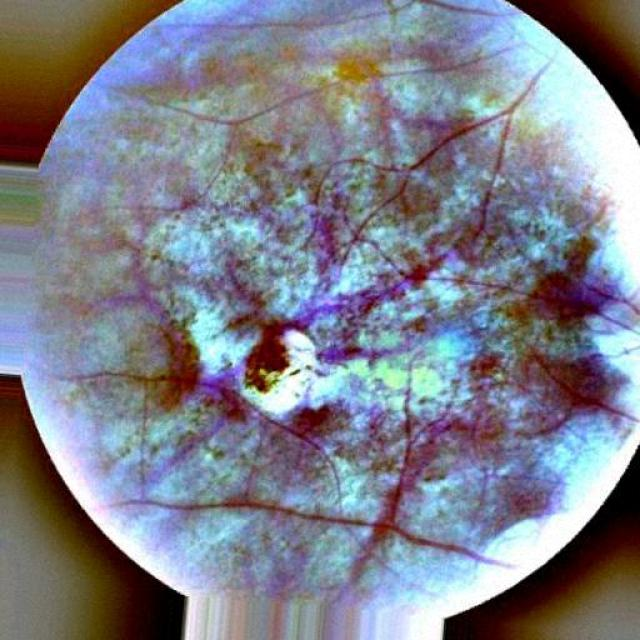Nerves: (116, 379, 509, 566), (136, 402, 509, 566), (340, 70, 542, 279), (69, 366, 339, 489), (245, 305, 325, 389), (534, 372, 639, 434), (361, 252, 446, 310), (471, 120, 510, 238), (318, 346, 378, 362)
